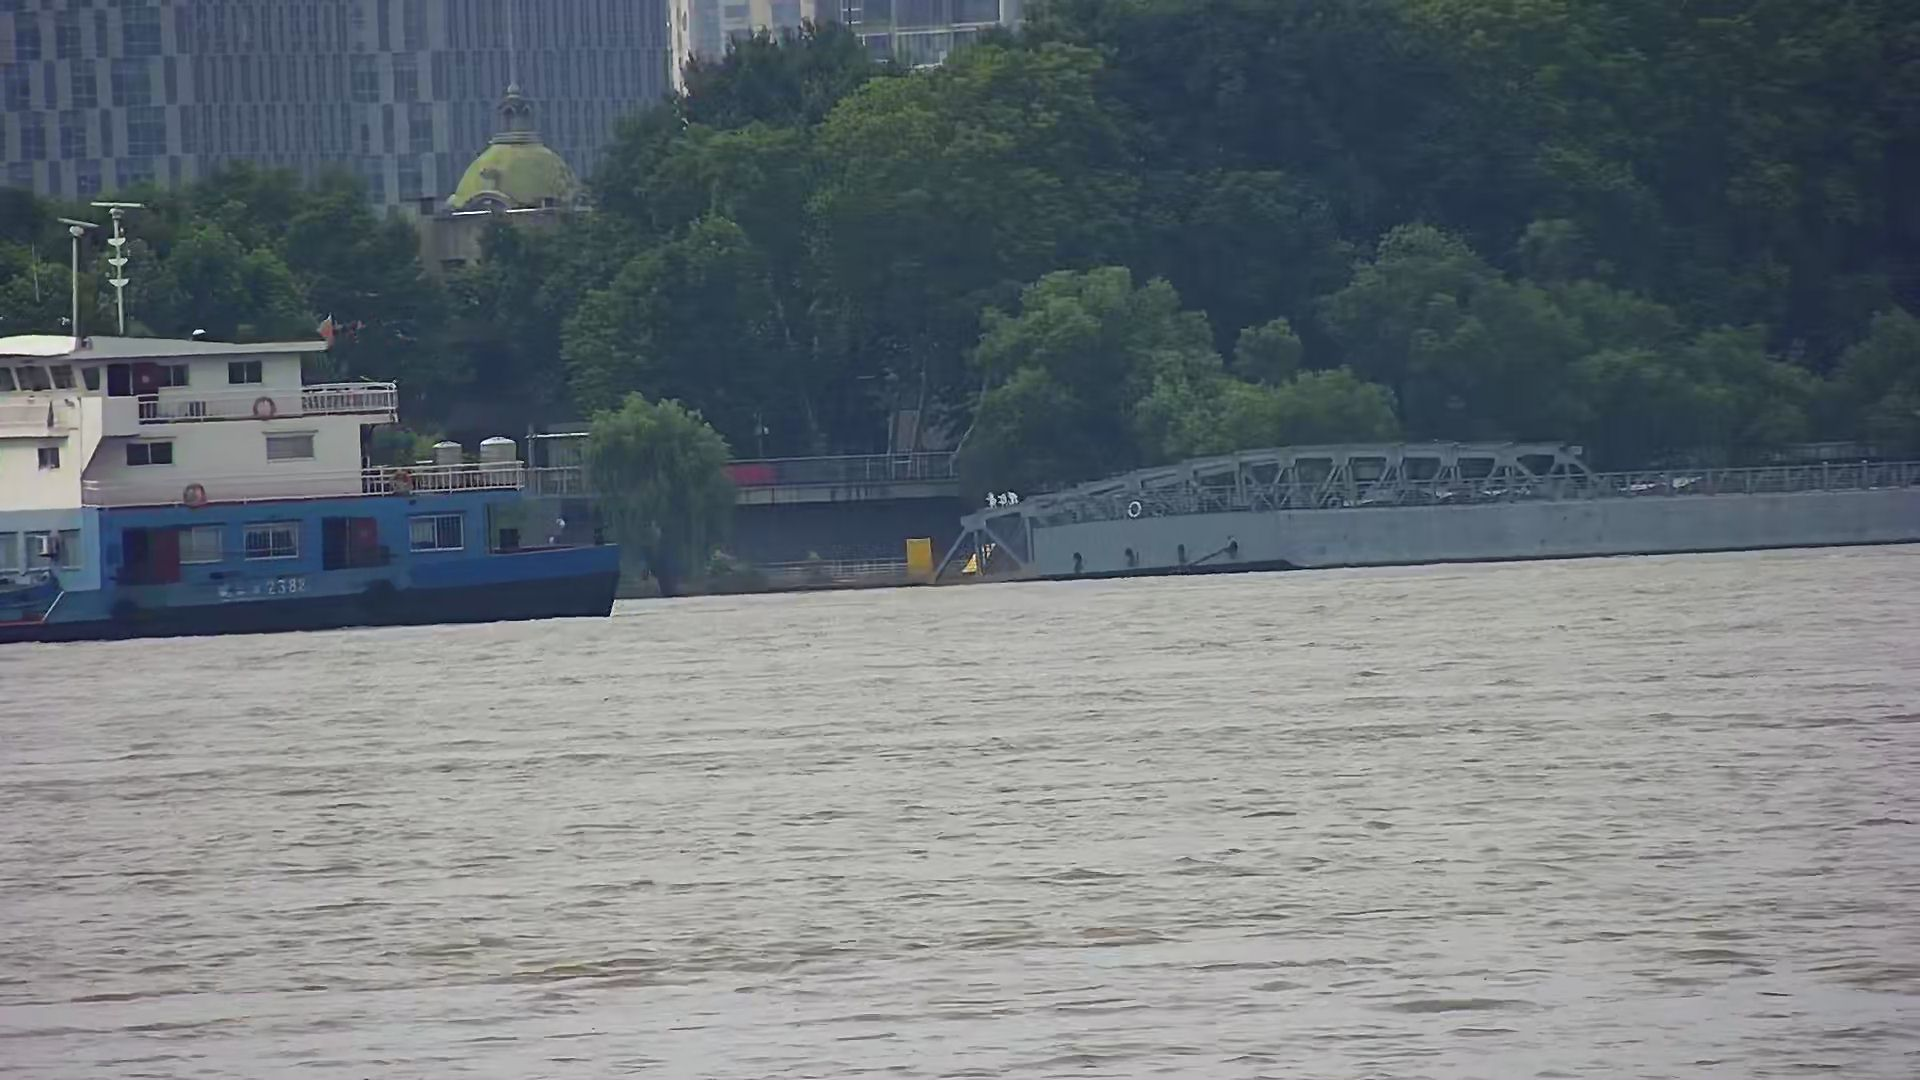ship: (1, 212, 618, 644)
